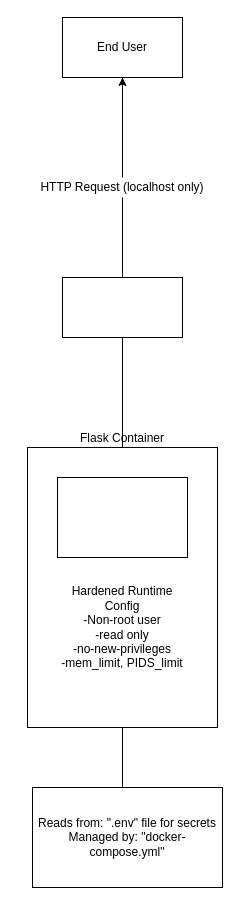
The diagram is 244 pixels wide and 905 high, and some of its shapes have lost their labels. Each missing label, with the centre of its shape:
Docker Host (Linux with Docker Engine): the point at 122,307
Flask App /calculate /ping /hello - Safe AST Eval - IP Validation: the point at 122,517
